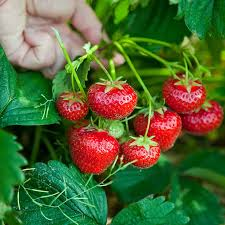ripe: (67, 123, 123, 180), (129, 105, 181, 153), (88, 76, 138, 122), (162, 68, 206, 113), (177, 97, 224, 138), (51, 85, 94, 124), (120, 136, 162, 172)
